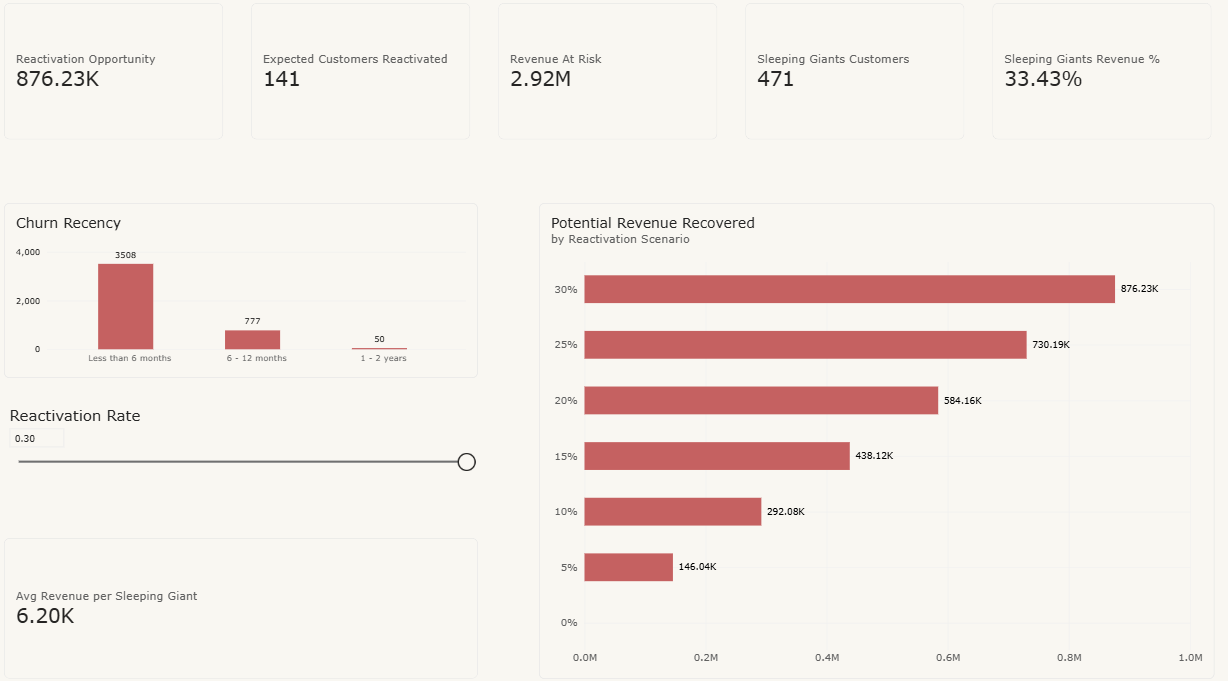

The page's visual inventory and layout, read from the dashboard file:
{"tool":"powerbi","page":{"name":"Reactivation & Financial Impact","canvas":[1920,1080],"ordinal":2},"visuals":[{"type":"cardVisual","fields":{"Data":["_calculations.Reactivation Opportunity","_calculations.Expected Customers Reactivated","_calculations.Revenue At Risk","_calculations.Sleeping Giants Customers","_calculations.Sleeping Giants Revenue %"]},"box":[92.9,94.3,1728.6,195.7],"z":0},{"type":"slicer","fields":{"Values":["Reactivation Rate.Reactivation Rate"]},"box":[92.9,670,677.1,142.9],"z":1000},{"type":"clusteredBarChart","fields":{"Category":["Reactivation Scenarios.Value"],"Y":["_calculations.Reactivation Rate Scenario"]},"box":[856.7,380,965,680],"z":2000},{"type":"cardVisual","fields":{"Data":["_calculations.Avg Revenue per Sleeping Giant"]},"box":[92.9,858.6,677.1,201.4],"z":3000},{"type":"clusteredColumnChart","title":"Churn Recency","fields":{"Category":["customers_with_clusters.Inactivity_Range"],"Y":["Count(customers_with_clusters.customer_id)"]},"box":[92.9,380,677.1,250],"z":4000}]}

Visuals, with their boxes in screenshot pixels (x1, y1, x2, y2), scaled from the page's 1920x1080 canvas onto the 1228x681 screenshot:
cardVisual - _calculations.Reactivation Opportunity x _calculations.Expected Customers Reactivated: <region>59, 59, 1165, 183</region>
slicer - Reactivation Rate.Reactivation Rate: <region>59, 422, 492, 513</region>
clusteredBarChart - Reactivation Scenarios.Value x _calculations.Reactivation Rate Scenario: <region>548, 240, 1165, 668</region>
cardVisual - _calculations.Avg Revenue per Sleeping Giant: <region>59, 541, 492, 668</region>
"Churn Recency" clusteredColumnChart: <region>59, 240, 492, 397</region>
